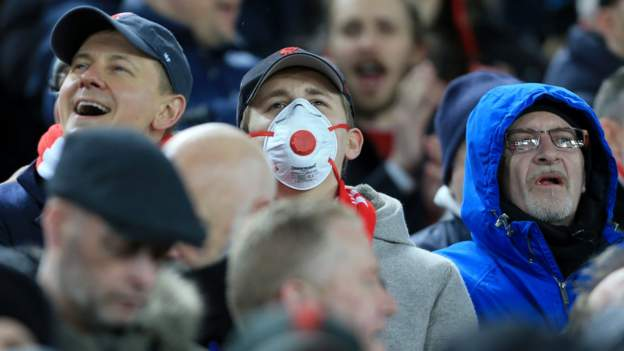with_mask: (254, 89, 343, 191)
without_mask: (502, 124, 587, 210), (65, 47, 139, 135)
